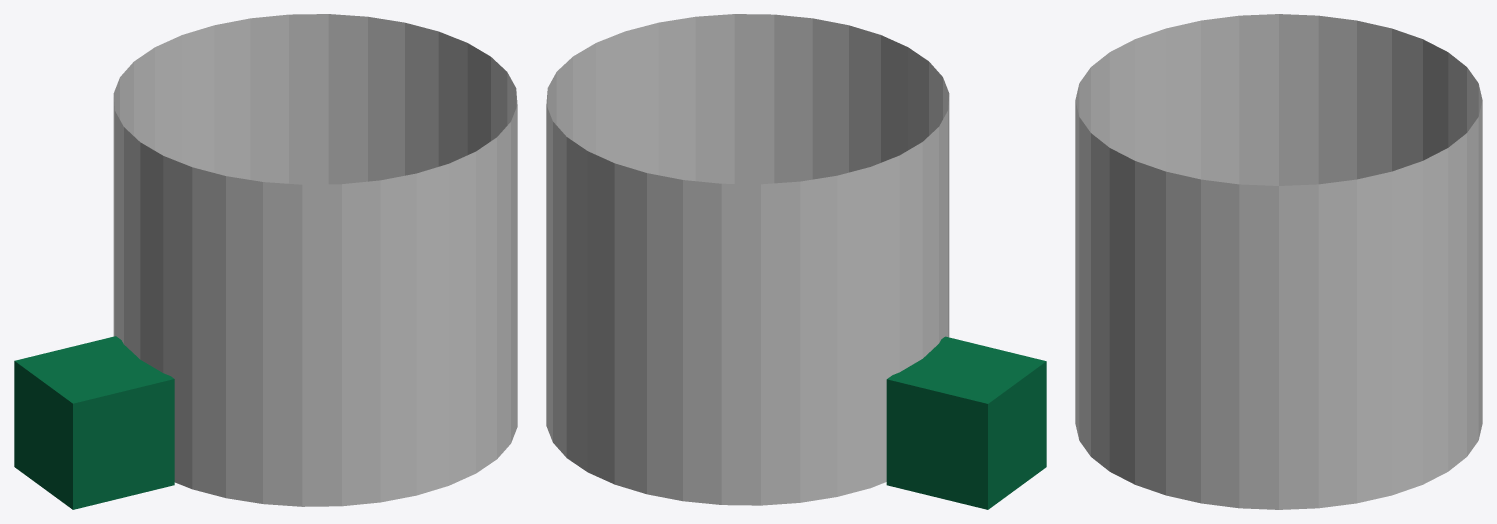
The model's file is start_raum.fbx.
The picture shows the model from 3 angles, left to right: view 1: azimuth 30°, elevation 25°; view 2: azimuth 150°, elevation 25°; view 3: azimuth 270°, elevation 25°; orthographic projection.
Parts seen in each view (by area): view 1: raum, aufzug; view 2: raum, aufzug; view 3: raum.
Boxes of the visible parts, x1,y1,x2,y2 form: raum: (113, 14, 517, 506); aufzug: (14, 336, 174, 509); raum: (546, 14, 949, 505); aufzug: (886, 336, 1046, 509); raum: (1075, 14, 1482, 509).
Size of the model in its own units: 1014 by 703 by 797.
